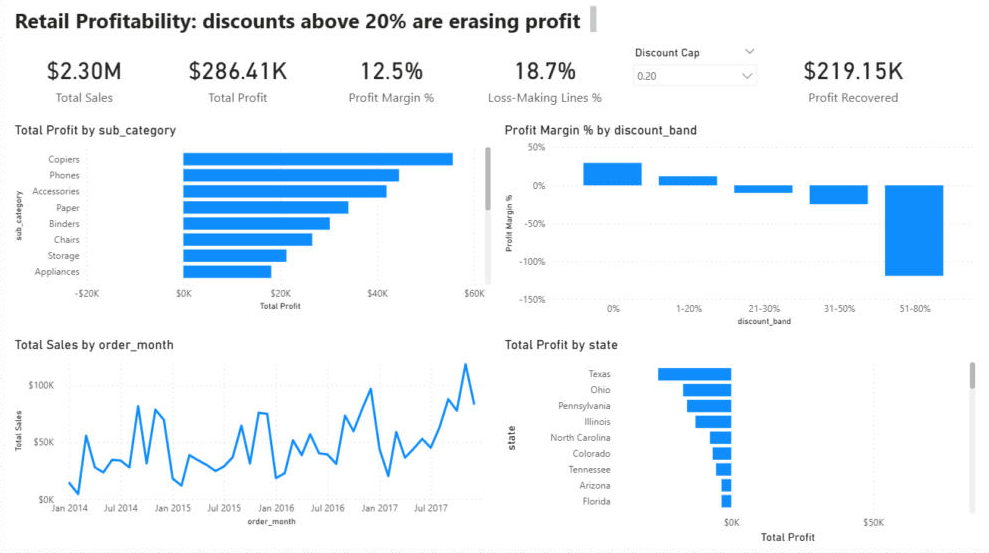

The dashboard page shown, as its layout file describes it:
{"tool":"powerbi","page":{"name":"Page 1","canvas":[1280,720],"ordinal":0},"visuals":[{"type":"card","fields":{"Values":["orders.Total Sales"]},"box":[16,60,190,90],"z":1},{"type":"card","fields":{"Values":["orders.Total Profit"]},"box":[214,60,190,90],"z":2},{"type":"card","fields":{"Values":["orders.Profit Margin %"]},"box":[412,60,190,90],"z":3},{"type":"card","fields":{"Values":["orders.Loss-Making Lines %"]},"box":[610,60,190,90],"z":4},{"type":"card","fields":{"Values":["Discount Cap.Profit Recovered"]},"box":[996,60,213,90],"z":5},{"type":"slicer","fields":{"Values":["Discount Cap.Discount Cap"]},"box":[808,60,180,90],"z":6},{"type":"clusteredBarChart","fields":{"Category":["orders.sub_category"],"Y":["orders.Total Profit"]},"box":[15.9,162.6,624.7,249.4],"z":7},{"type":"clusteredColumnChart","fields":{"Category":["orders.discount_band"],"Y":["orders.Profit Margin %"]},"box":[647.9,162.6,617.3,268.9],"z":8},{"type":"lineChart","fields":{"Y":["orders.Total Sales"],"Category":["orders.order_month"]},"box":[15.9,440.1,624.7,249.4],"z":9},{"type":"clusteredBarChart","fields":{"Category":["orders.state"],"Y":["orders.Total Profit"]},"box":[647.9,440.1,617.3,271.4],"z":10},{"type":"textbox","box":[16,8,760,44],"z":11}]}

Visuals, with their boxes in screenshot pixels (x1, y1, x2, y2), scaled from the page's 1280x720 canvas onto the 989x553 screenshot:
card - orders.Total Sales: <region>12, 46, 159, 115</region>
card - orders.Total Profit: <region>165, 46, 312, 115</region>
card - orders.Profit Margin %: <region>318, 46, 465, 115</region>
card - orders.Loss-Making Lines %: <region>471, 46, 618, 115</region>
card - Discount Cap.Profit Recovered: <region>770, 46, 934, 115</region>
slicer - Discount Cap.Discount Cap: <region>624, 46, 763, 115</region>
clusteredBarChart - orders.sub_category x orders.Total Profit: <region>12, 125, 495, 316</region>
clusteredColumnChart - orders.discount_band x orders.Profit Margin %: <region>501, 125, 978, 331</region>
lineChart - orders.Total Sales x orders.order_month: <region>12, 338, 495, 530</region>
clusteredBarChart - orders.state x orders.Total Profit: <region>501, 338, 978, 546</region>
textbox: <region>12, 6, 600, 40</region>
